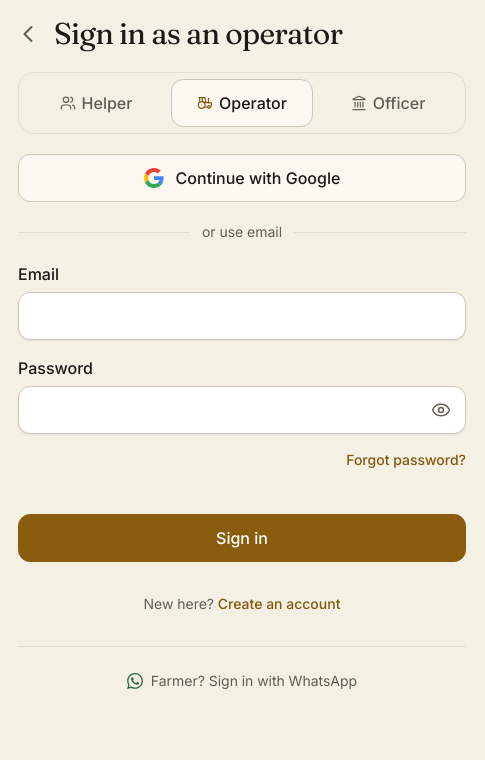
Test: staff sign-in card › forgot password: a code, then a new password, then back to sign in
Click the button "Forgot password?" at (406, 460), box [346,438,466,482]
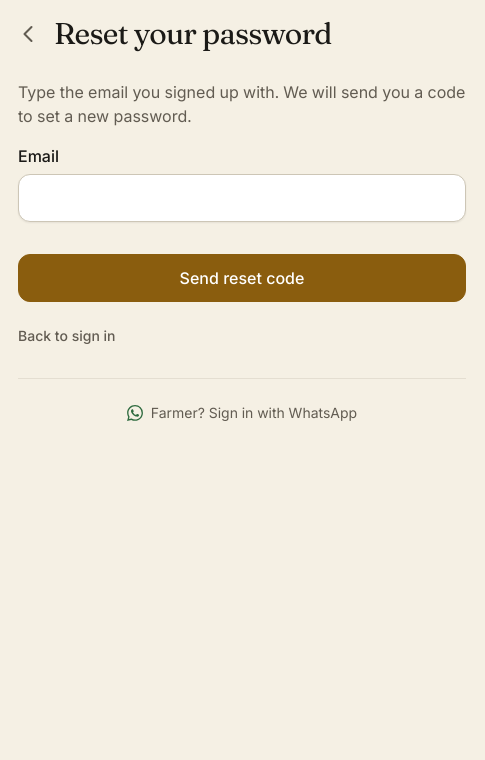
Check: the heading "Reset your password" is shown, box [54,15,332,53]
Type "harpal@example.org" into the field labelled "Email" at (242, 198), box [18,174,466,222]
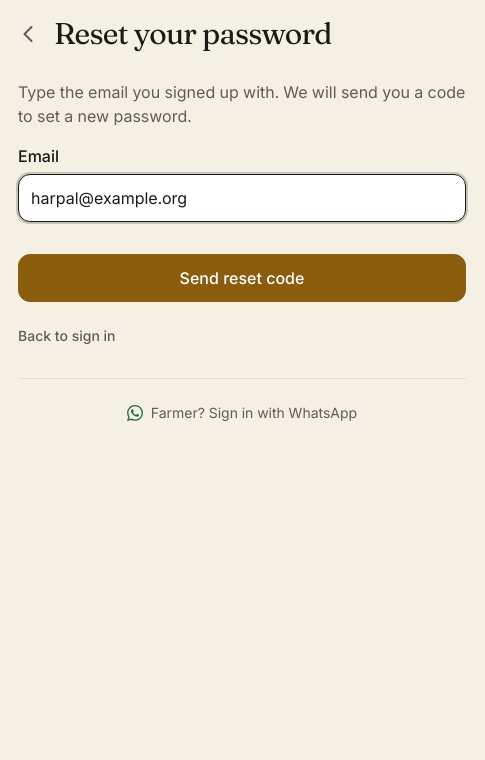
Click the button "Send reset code" at (242, 278), box [18,254,466,302]
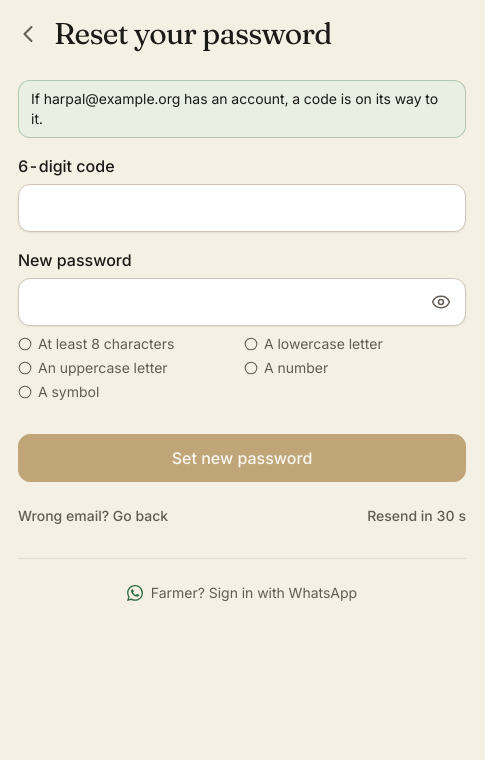
Check: the text "If harpal@example.org has an account, a code is on its way to it." is shown, box [18,80,466,138]
Type "654321" into the field labelled "6-digit code" at (242, 208), box [18,184,466,232]
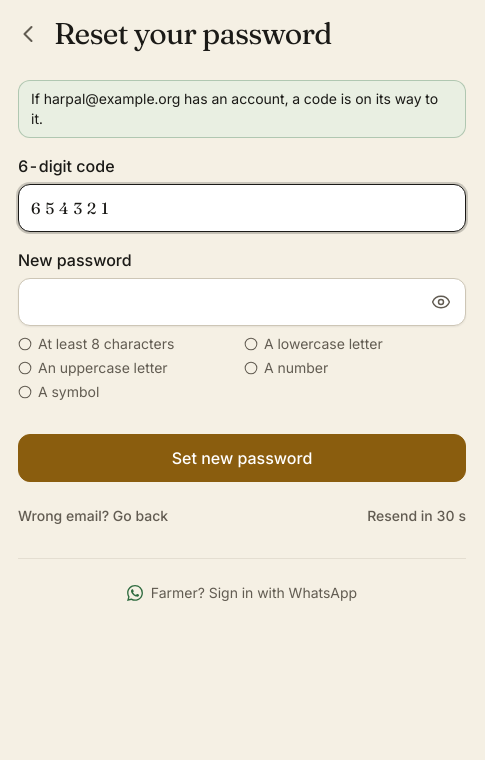
Type "New-Pass1" into the password field labelled "New password" at (218, 302), box [19,279,417,325]
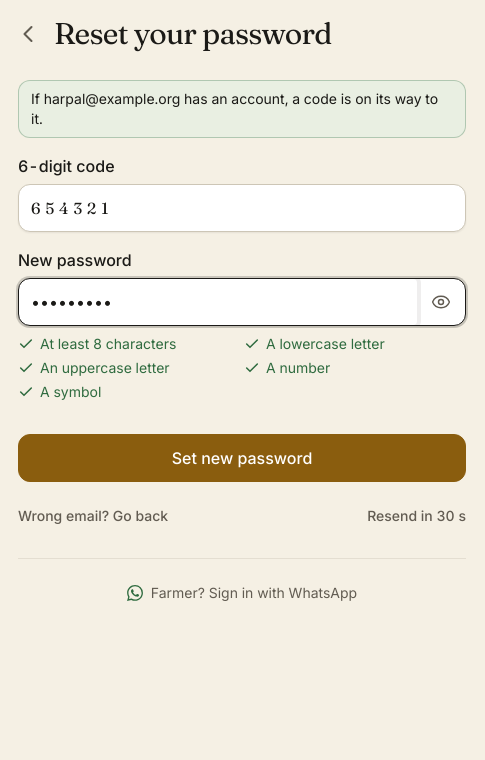
Click the button "Set new password" at (242, 458), box [18,434,466,482]
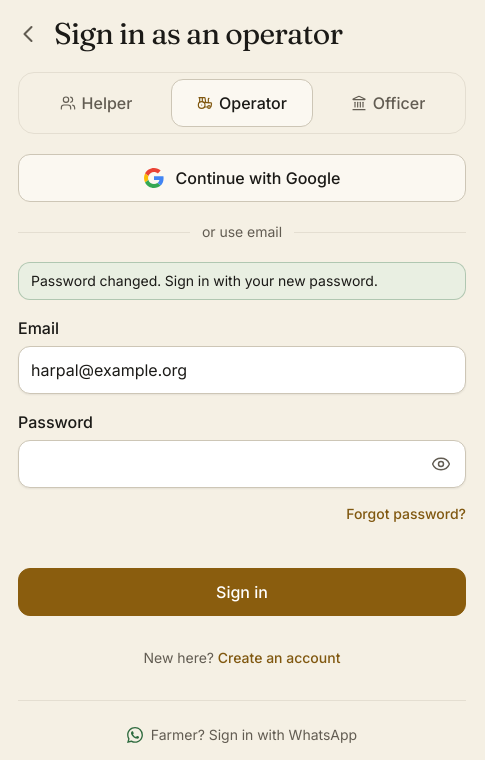
Check: the text "Password changed. Sign in with your new password." is shown, box [18,262,466,300]
Check: the heading "Sign in as an operator" is shown, box [54,15,342,53]
